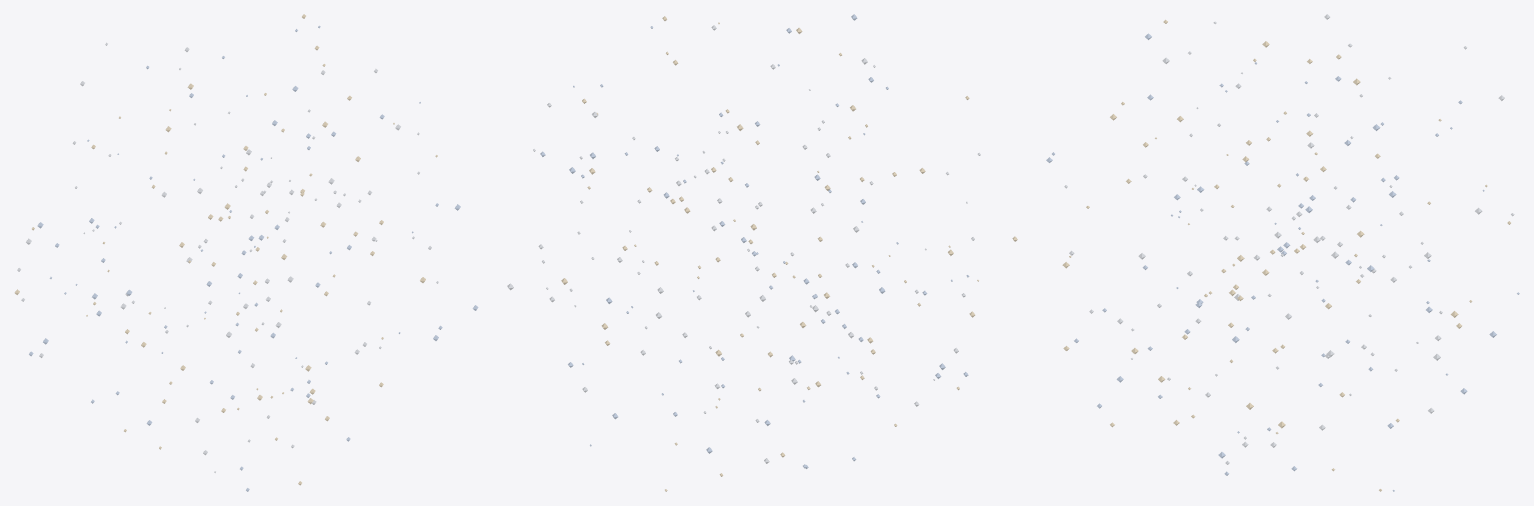
3 renders of one model, left to right at view 1: azimuth 30°, elevation 25°; view 2: azimuth 150°, elevation 25°; view 3: azimuth 270°, elevation 25°, orthographic. The views are drawn at different scales.
Size of the model in its own units: 5 by 4.94 by 4.54.
